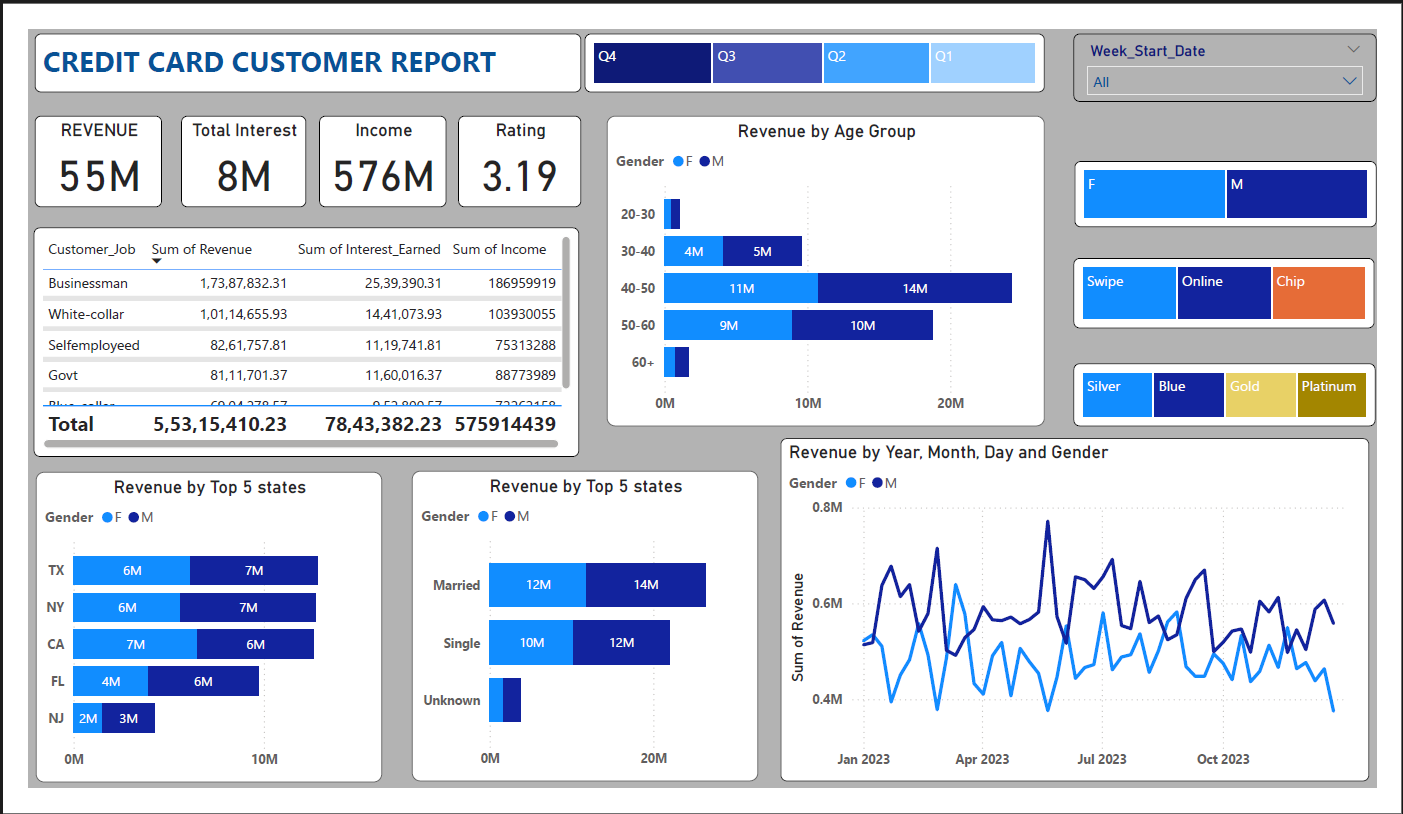

This screenshot's page, from the dashboard's own definition file:
{"tool":"powerbi","page":{"name":"Page 2","canvas":[1280,720],"ordinal":2},"visuals":[{"type":"textbox","box":[6,3.6,518.8,56.7],"z":0},{"type":"tableEx","title":"Revenue by Card Category","fields":{"Values":["customer.Customer_Job","Sum(credit_card.Revenue)","Sum(credit_card.Interest_Earned)","Sum(customer.Income)"]},"box":[5.5,188,517.3,218.2],"z":1},{"type":"card","title":"REVENUE","fields":{"Values":["Sum(credit_card.Revenue)"]},"box":[6,82,120.6,86.9],"z":2},{"type":"card","title":"Rating","fields":{"Values":["Avg(customer.Cust_Satisfaction_Score)"]},"box":[407.8,82,117,86.9],"z":3},{"type":"card","title":"Income","fields":{"Values":["Sum(customer.Income)"]},"box":[276.3,82,120.6,86.9],"z":4},{"type":"card","title":"Total Interest","fields":{"Values":["Sum(credit_card.Interest_Earned)"]},"box":[144.8,82,119.4,86.9],"z":5},{"type":"treemap","fields":{"Group":["credit_card.Qtr"],"Values":["Avg(credit_card.Client_Num)"]},"box":[528.4,3.6,436.7,56.7],"z":6},{"type":"slicer","fields":{"Values":["credit_card.Week_Start_Date"]},"box":[992.1,4.1,288.2,64.5],"z":7},{"type":"treemap","fields":{"Values":["Avg(credit_card.Client_Num)"],"Group":["customer.Gender"]},"box":[993.5,124.9,286.8,63.1],"z":8},{"type":"treemap","fields":{"Values":["Avg(credit_card.Client_Num)"],"Group":["credit_card.Use Chip"]},"box":[992.1,216.8,285.4,67.2],"z":9},{"type":"treemap","fields":{"Values":["Avg(credit_card.Client_Num)"],"Group":["credit_card.Card_Category"]},"box":[992.1,317,286.8,60.4],"z":10},{"type":"lineChart","title":"Revenue by Year, Month, Day and Gender","fields":{"Series":["customer.Gender"],"Y":["Sum(credit_card.Revenue)"],"Category":["credit_card.Week_Start_Date.Variation.Date Hierarchy.Year","credit_card.Week_Start_Date.Variation.Date Hierarchy.Month","credit_card.Week_Start_Date.Variation.Date Hierarchy.Day"]},"box":[713.6,388.3,559.9,325.2],"z":11},{"type":"barChart","title":"Revenue by Top 5 states","fields":{"Category":["customer.state_cd"],"Y":["Sum(credit_card.Revenue)"],"Series":["customer.Gender"]},"box":[6.9,419.9,329.3,295],"z":12},{"type":"barChart","title":"Revenue by Age Group","fields":{"Category":["customer.Age Group"],"Y":["Sum(credit_card.Revenue)"],"Series":["customer.Gender"]},"box":[548.9,82.3,415.8,295],"z":13},{"type":"barChart","title":"Revenue by Top 5 states","fields":{"Y":["Sum(credit_card.Revenue)"],"Series":["customer.Gender"],"Category":["customer.Marital_Status"]},"box":[363.6,418.5,329.3,295],"z":14}]}

Visuals, with their boxes on the page's 1280x720 design canvas (x1, y1, x2, y2). These are canvas units, not pixel positions in the 1403x814 screenshot, which may show the page scaled, cropped or inside an application window:
textbox: 6,4,525,60
"Revenue by Card Category" tableEx: 6,188,523,406
"REVENUE" card: 6,82,127,169
"Rating" card: 408,82,525,169
"Income" card: 276,82,397,169
"Total Interest" card: 145,82,264,169
treemap - credit_card.Qtr x Avg(credit_card.Client_Num): 528,4,965,60
slicer - credit_card.Week_Start_Date: 992,4,1280,69
treemap - Avg(credit_card.Client_Num) x customer.Gender: 994,125,1280,188
treemap - Avg(credit_card.Client_Num) x credit_card.Use Chip: 992,217,1278,284
treemap - Avg(credit_card.Client_Num) x credit_card.Card_Category: 992,317,1279,377
"Revenue by Year, Month, Day and Gender" lineChart: 714,388,1274,714
"Revenue by Top 5 states" barChart: 7,420,336,715
"Revenue by Age Group" barChart: 549,82,965,377
"Revenue by Top 5 states" barChart: 364,418,693,714
